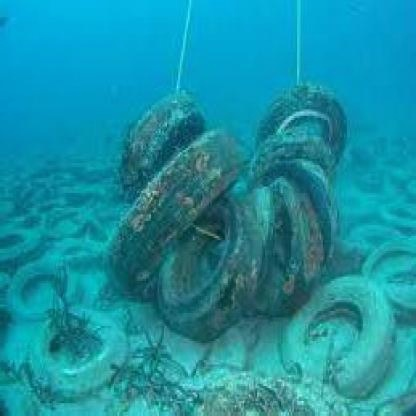net: (167, 4, 196, 88), (286, 2, 310, 82)
tire: (104, 131, 248, 289), (159, 180, 267, 326), (282, 270, 394, 392), (259, 150, 350, 253), (254, 176, 323, 307), (114, 80, 212, 172), (34, 304, 132, 394), (259, 80, 355, 152), (8, 256, 98, 318), (27, 170, 104, 240), (370, 232, 414, 315), (254, 129, 342, 167), (3, 218, 39, 262)
